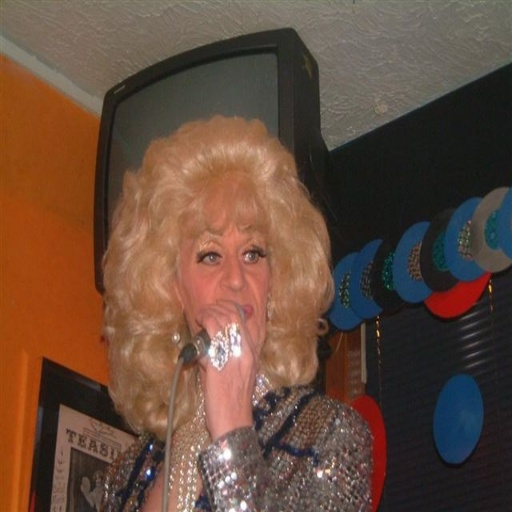hand: (193, 307, 259, 444)
